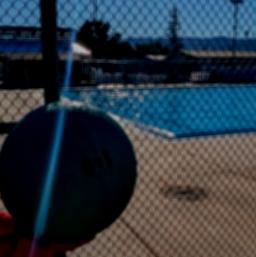algae: (0, 99, 141, 244)
